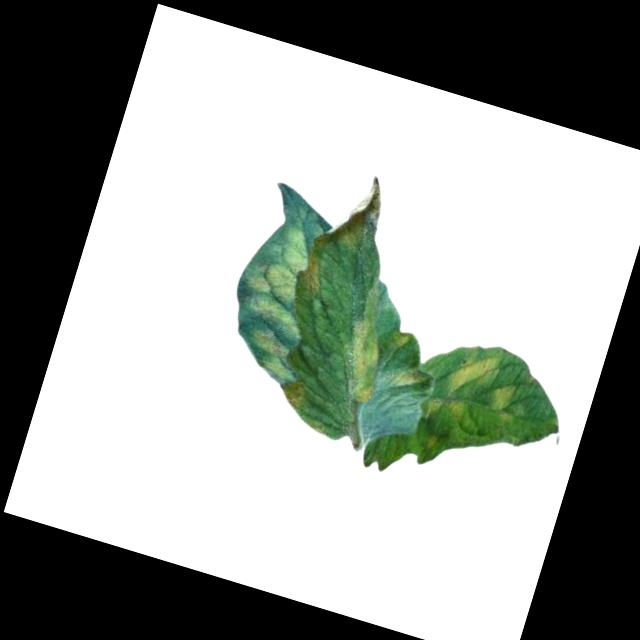Leaf_Mold: (223, 216, 337, 386), (333, 313, 396, 406), (443, 343, 504, 406), (300, 230, 338, 296), (485, 378, 526, 425), (423, 391, 469, 428), (395, 362, 427, 393)
